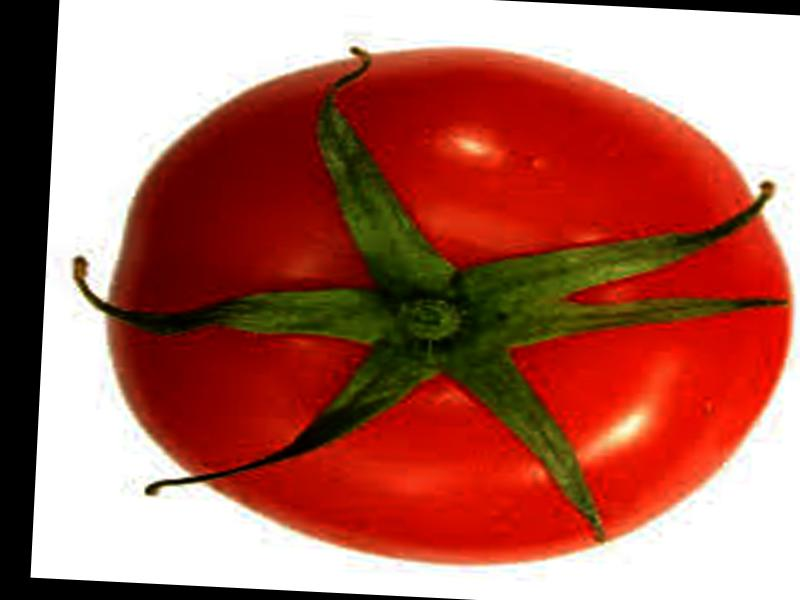Tomato: (96, 34, 800, 579)
